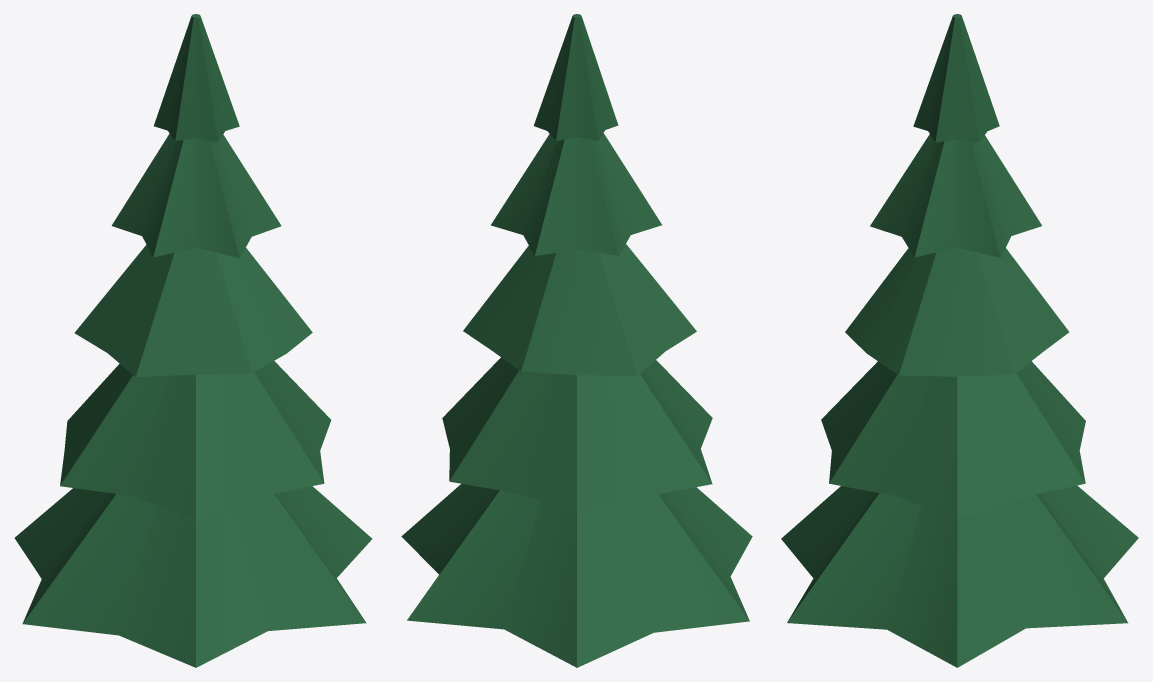
Rendered from tree_pine.glb.
3 views of the same model, side by side, from view 1: azimuth 30°, elevation 25°; view 2: azimuth 150°, elevation 25°; view 3: azimuth 270°, elevation 25° (orthographic).
Parts seen in each view (by area): view 1: Cone; view 2: Cone; view 3: Cone.
Boxes of the visible parts, box(x1,y1,x2,y2) form: Cone: box(14, 14, 372, 667); Cone: box(401, 14, 752, 667); Cone: box(781, 14, 1138, 667).
Bounding box in the file's own units: 4.43 × 7.4 × 3.92.
